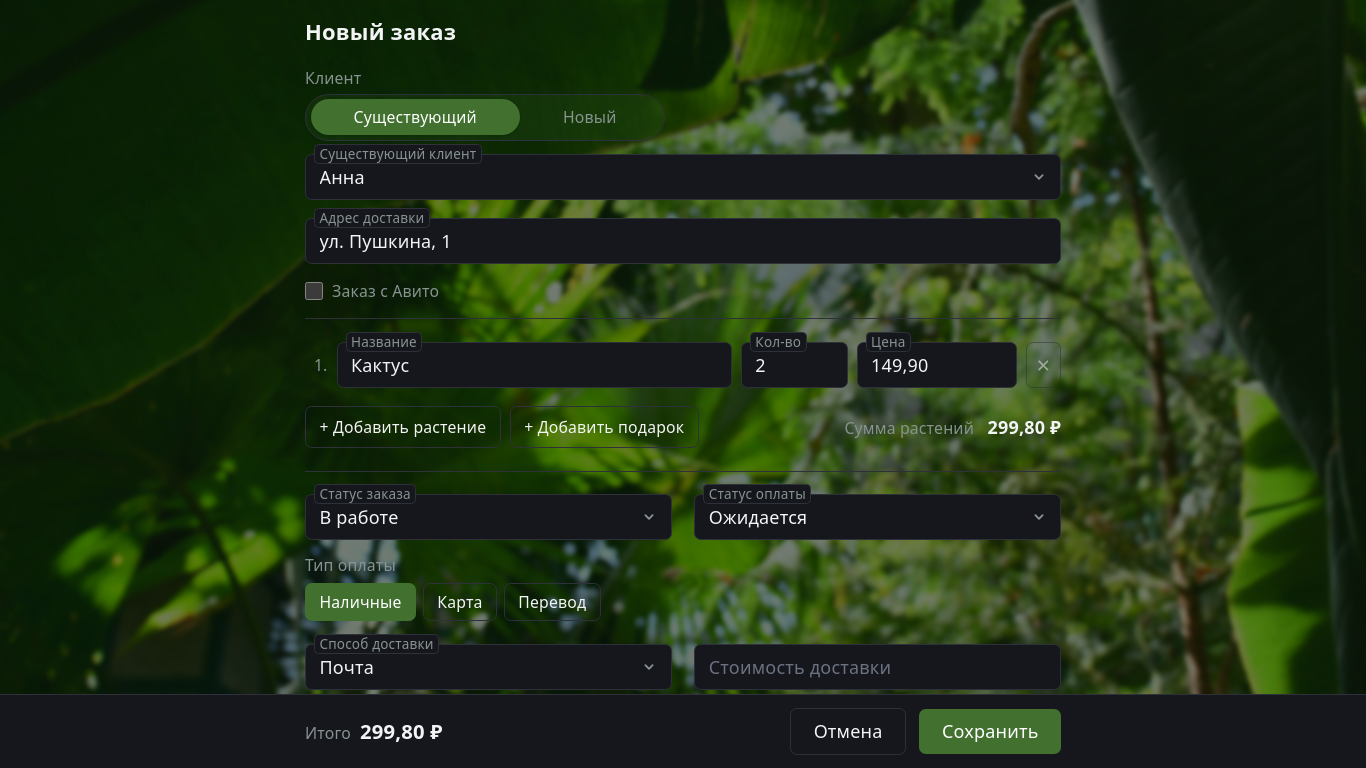
it: OrderForm › restores the delivery address on a new→existing mode round-trip (edit form)
Expected: the dropdown labelled "Существующий клиент" is shown, 305,154 -> 1061,200
Expected: the field labelled "Адрес доставки" holds "ул. Пушкина, 1", 305,218 -> 1061,264
# Flip to "new": the address clears for the fresh customer (correct)…
Click the radio button labelled "Новый": coordinates (590, 117) 563,106 -> 616,128
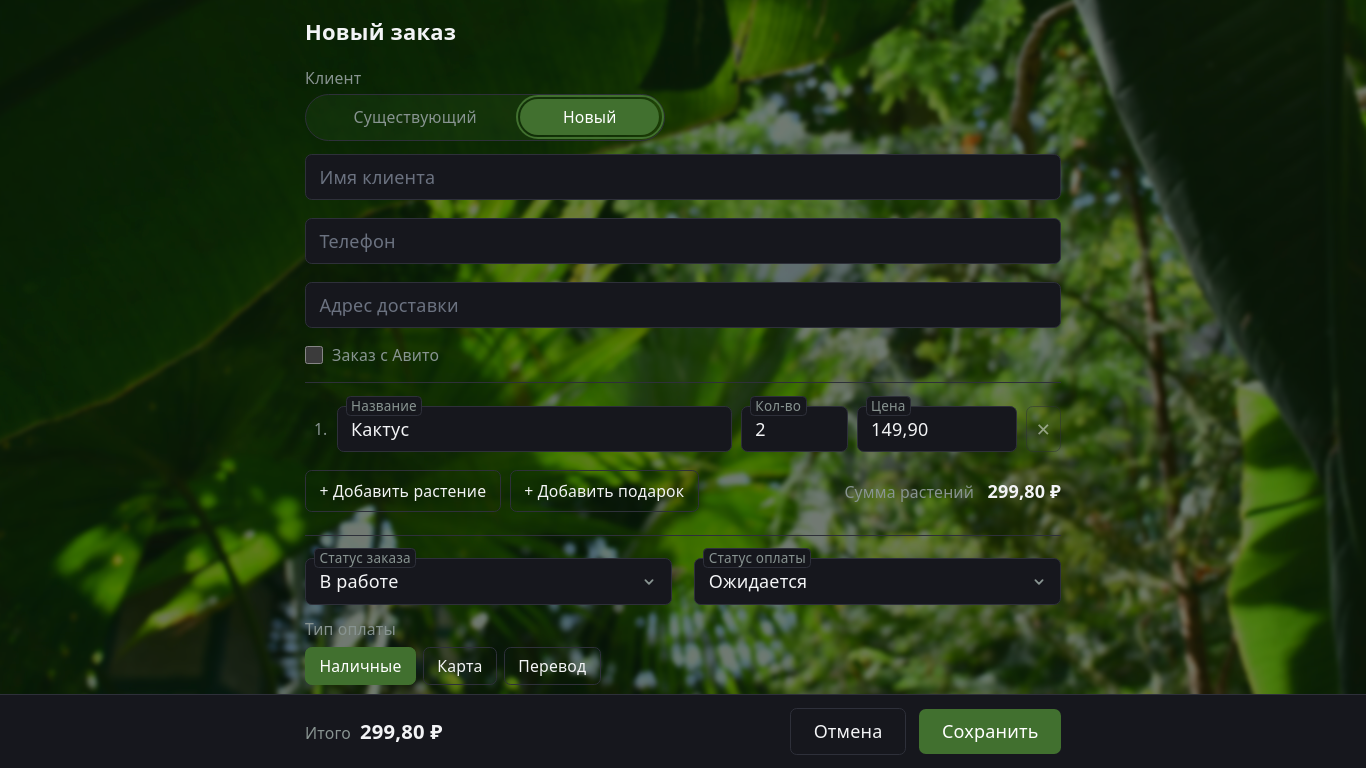
Expected: the field labelled "Адрес доставки" is empty, 305,282 -> 1061,328
Click the radio button labelled "Существующий": coordinates (415, 117) 354,106 -> 477,128
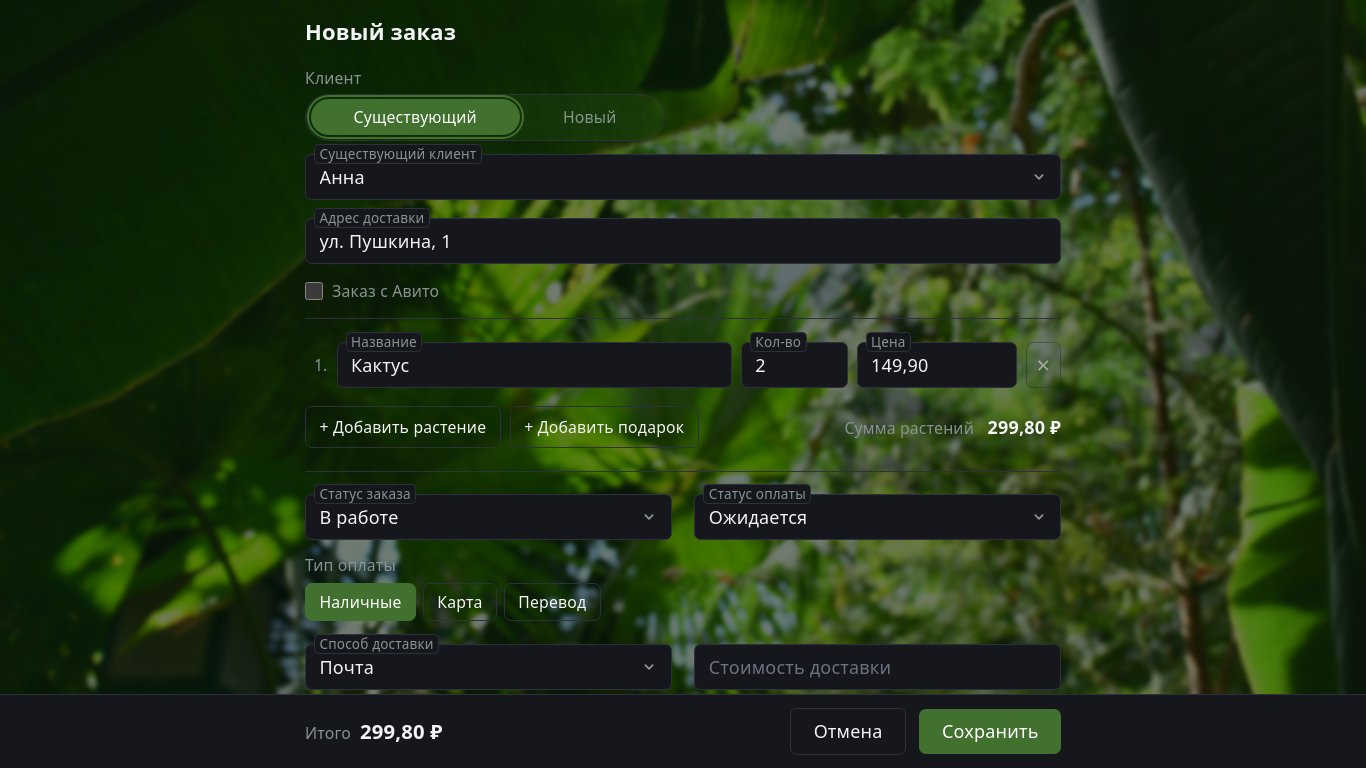
Expected: the field labelled "Адрес доставки" holds "ул. Пушкина, 1", 305,218 -> 1061,264
Expected: the dropdown labelled "Существующий клиент" shows "Анна", 305,154 -> 1061,200
